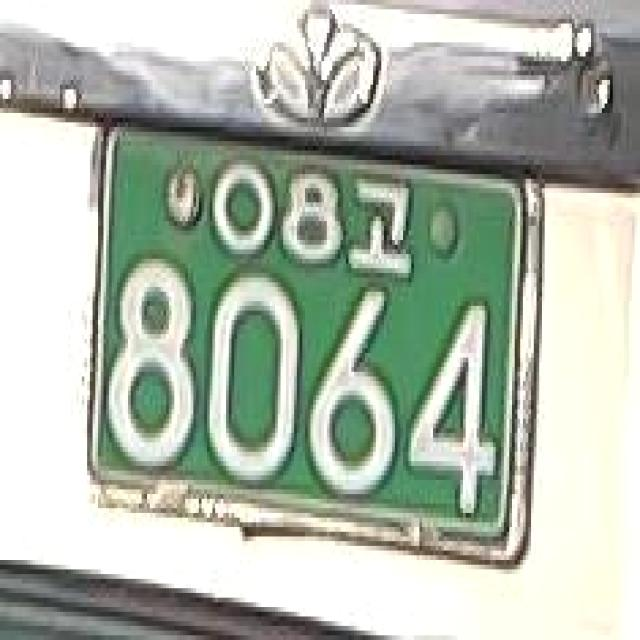illegal_plate: (68, 104, 554, 584)
